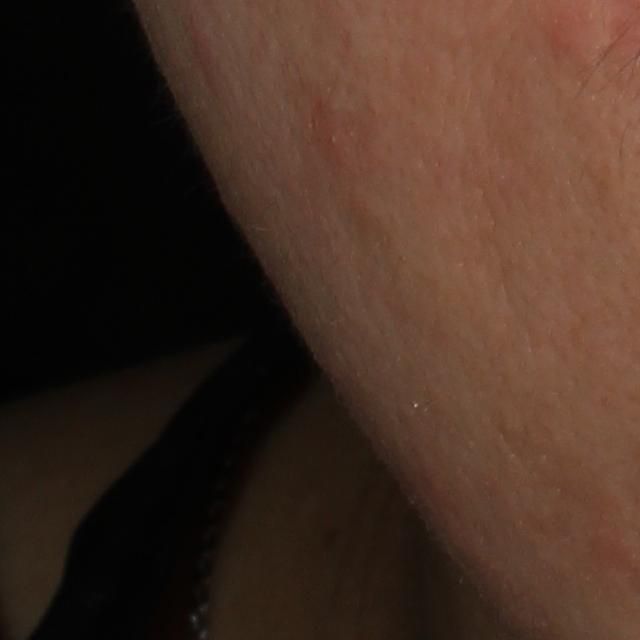papule: (178, 8, 217, 61)
